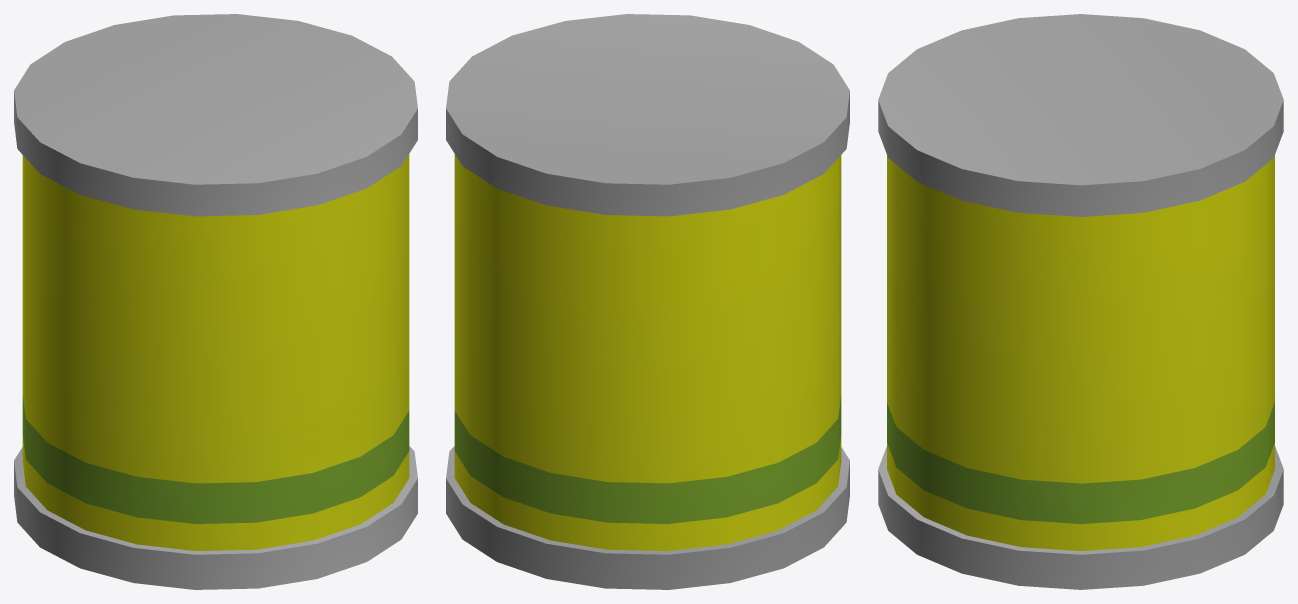
Rendered from Ürün21.fbx.
The picture shows the model from 3 angles, left to right: view 1: azimuth 30°, elevation 25°; view 2: azimuth 150°, elevation 25°; view 3: azimuth 270°, elevation 25°; orthographic projection.
Visible parts, largest first — view 1: pCylinder10; view 2: pCylinder10; view 3: pCylinder10.
Part boxes in pixels (left/top/right/bottom): pCylinder10: left=14, top=14, right=417, bottom=589; pCylinder10: left=446, top=14, right=849, bottom=589; pCylinder10: left=878, top=14, right=1283, bottom=589.
Size of the model in its own units: 9.51 by 10.47 by 9.51.
